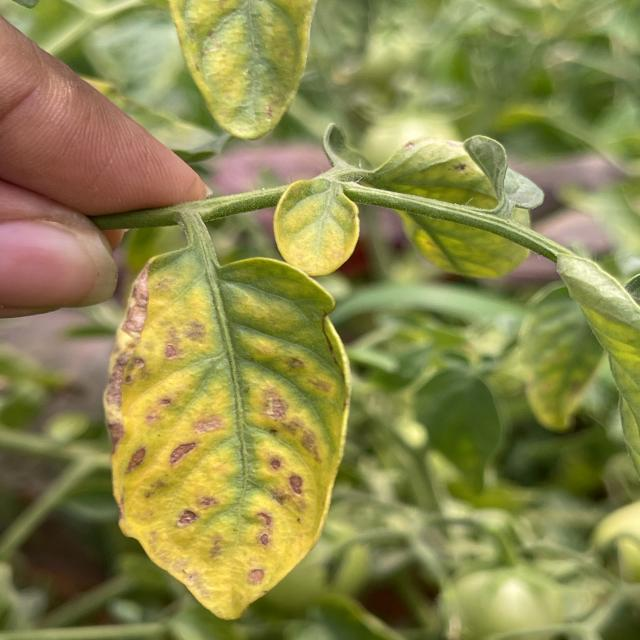tomato_early blight: (91, 238, 343, 620), (316, 124, 536, 276), (165, 0, 316, 139), (517, 286, 612, 431), (267, 175, 363, 276)
